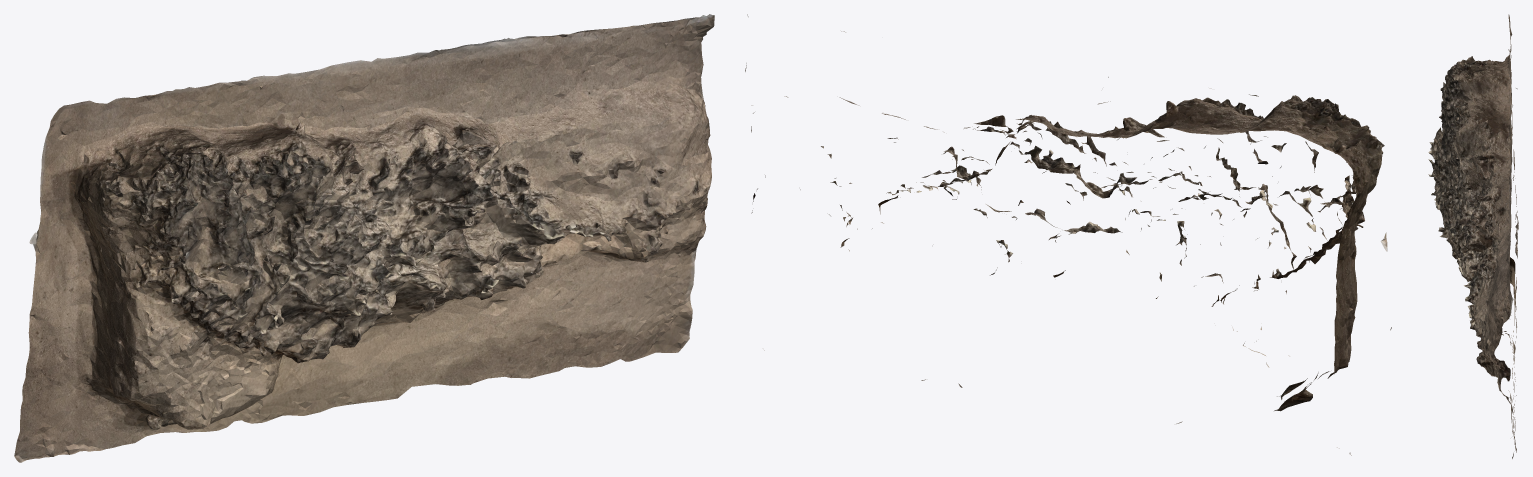
File: fishing_net.glb
3 views of the same model, side by side, from view 1: azimuth 30°, elevation 25°; view 2: azimuth 150°, elevation 25°; view 3: azimuth 270°, elevation 25° (orthographic). The views are drawn at different scales.
Visible parts, largest first — view 1: default; view 2: default; view 3: default.
Part boxes in pixels (x1,y1,x2,y2): default: (14,14,714,462); default: (745,14,1391,455); default: (1428,14,1518,458).
Bounding box in the file's own units: 35.08 × 19.48 × 6.26.
1 material, 1 textured.
